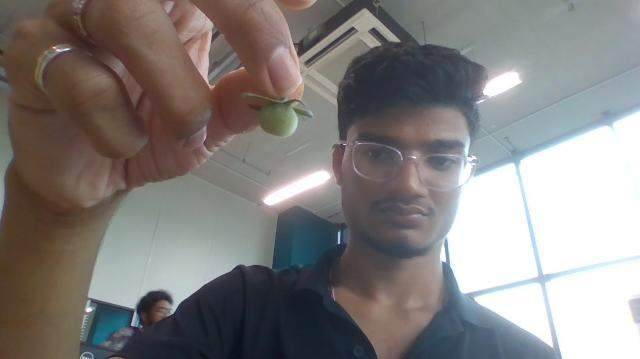Fruit Maturation: (259, 101, 299, 139)
